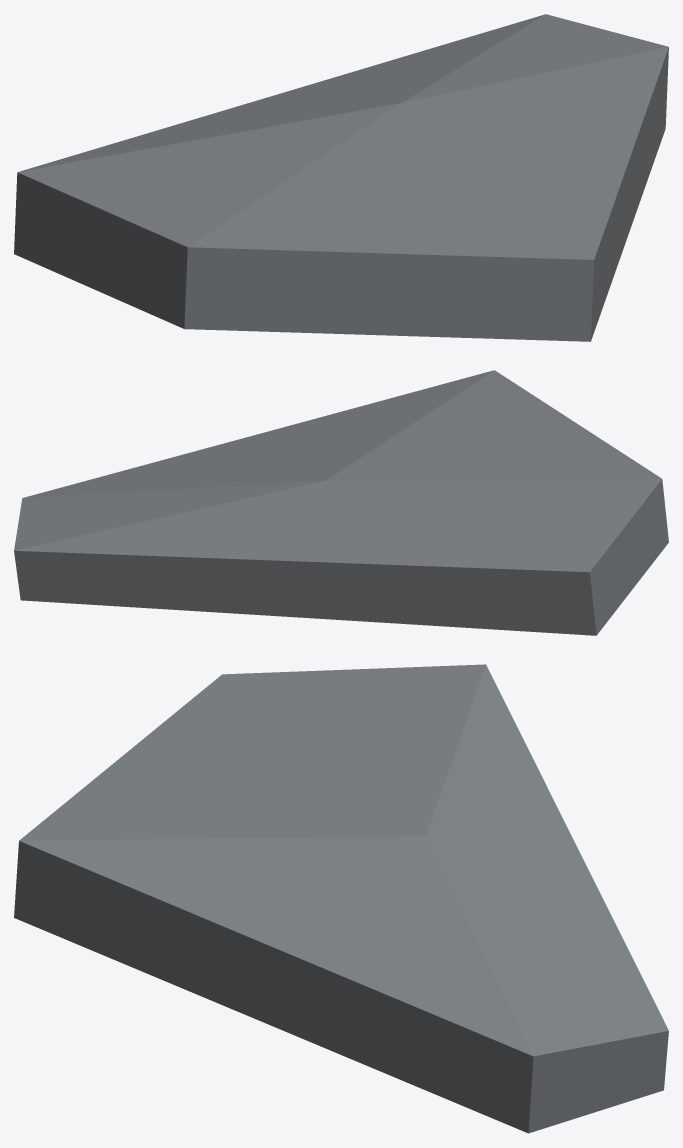
Rendered from Rock_C.FBX.
3 renders of one model, top to bottom at view 1: azimuth 30°, elevation 25°; view 2: azimuth 150°, elevation 25°; view 3: azimuth 270°, elevation 25°, orthographic. The views are drawn at different scales.
Visible parts, largest first — view 1: rock_3; view 2: rock_3; view 3: rock_3.
Boxes of the visible parts, <box> form: rock_3: <box>14,14,668,341</box>; rock_3: <box>14,370,668,635</box>; rock_3: <box>14,664,668,1133</box>.
Size of the model in its own units: 60.15 by 12.86 by 49.33.
1 material, 1 textured.
